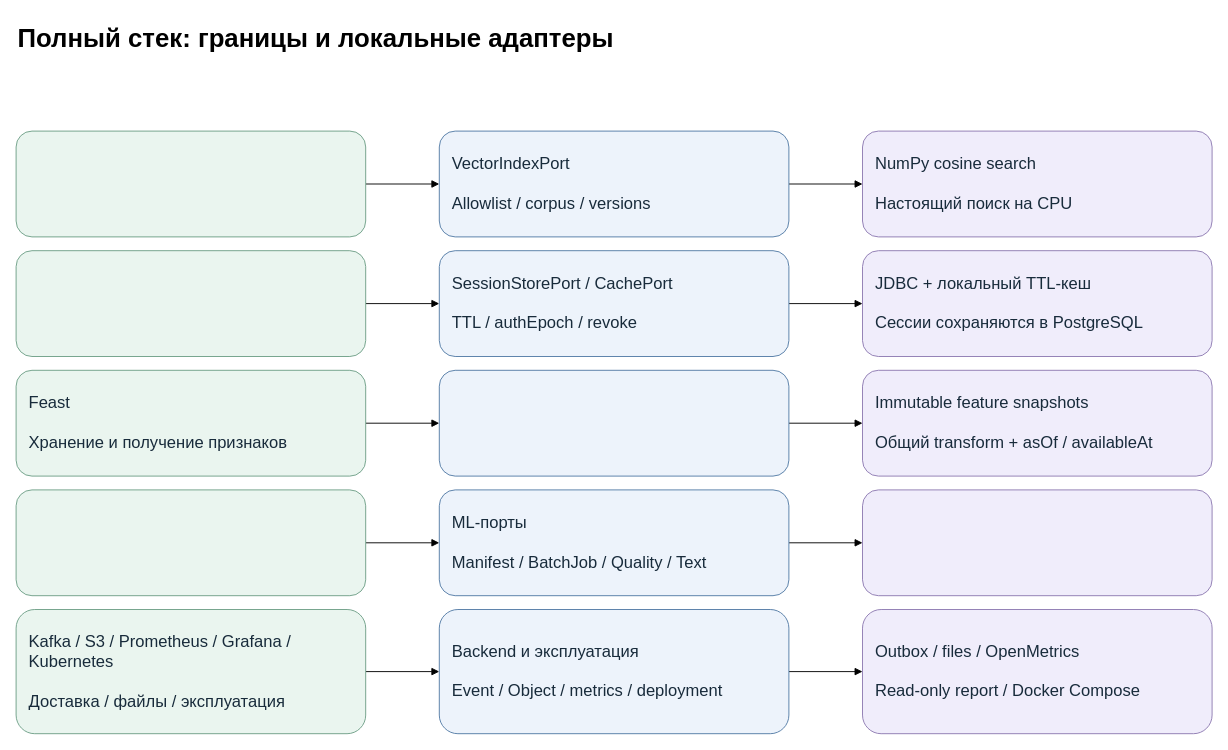
This 1228x750 diagram has some shape labels left out. Each missing label, with the centre of its shape:
"FeatureRepositoryPort HistoricalFeatureReader" goes at [613,422].
"Manifests / jobs / DQ reports CPU llama.cpp + Qwen" goes at [1037,542].
"MLflow / Airflow / Evidently / vLLM Registry / jobs / quality / generation" goes at [190,542].
"Qdrant Векторный индекс" goes at [190,183].
"Redis Сессии и восстанавливаемый кеш" goes at [190,303].
